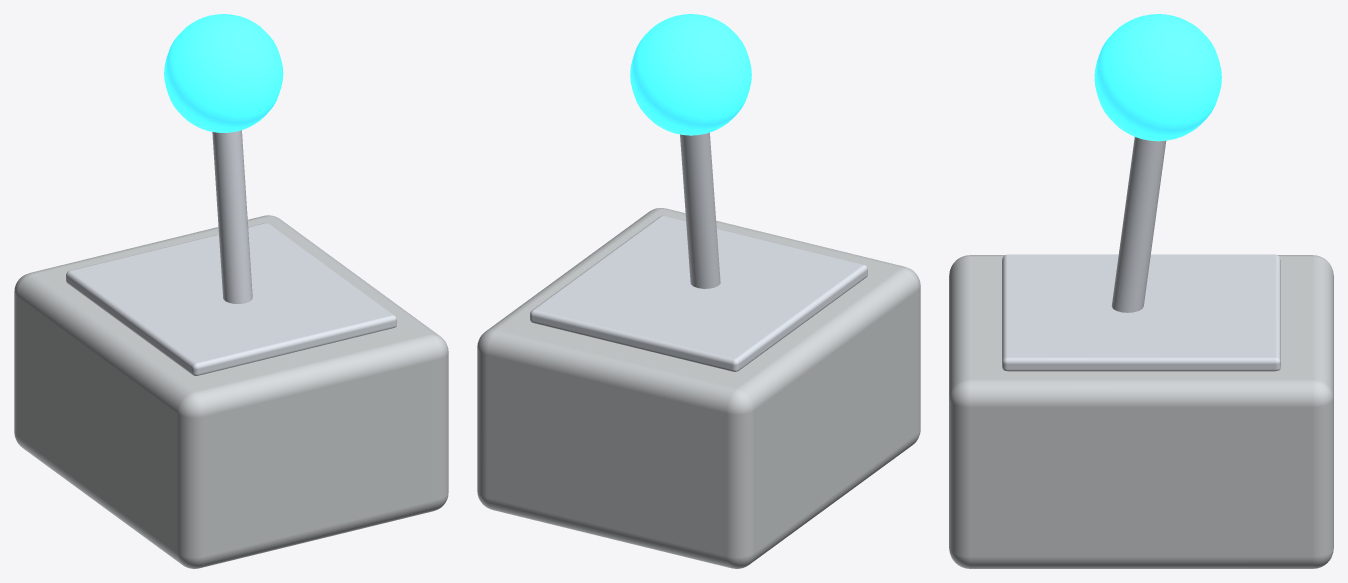
The model's file is atelier-gaming-shifter-arctic.glb.
The picture shows the model from 3 angles, left to right: view 1: azimuth 30°, elevation 25°; view 2: azimuth 150°, elevation 25°; view 3: azimuth 270°, elevation 25°; orthographic projection. The views are drawn at different scales.
Size of the model in its own units: 0.125 by 0.202 by 0.145.
